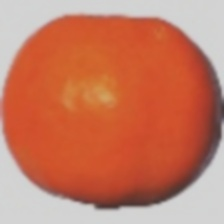tangerine: (0, 52, 199, 206)
